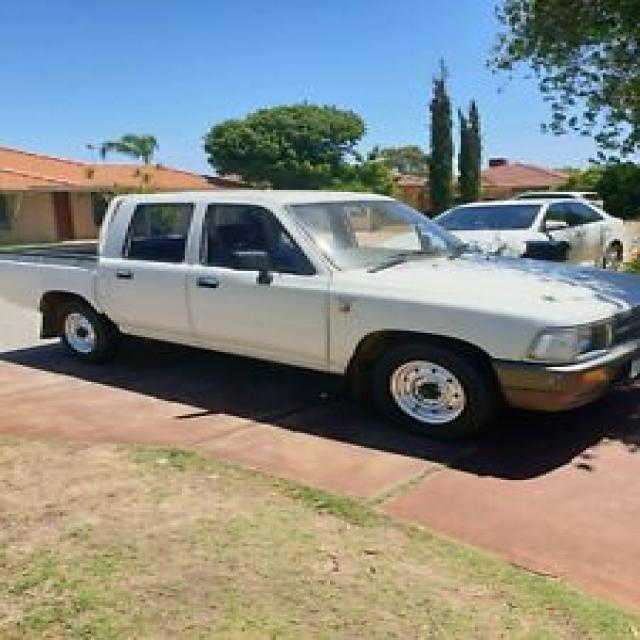light_vehicle: (6, 175, 637, 442)
